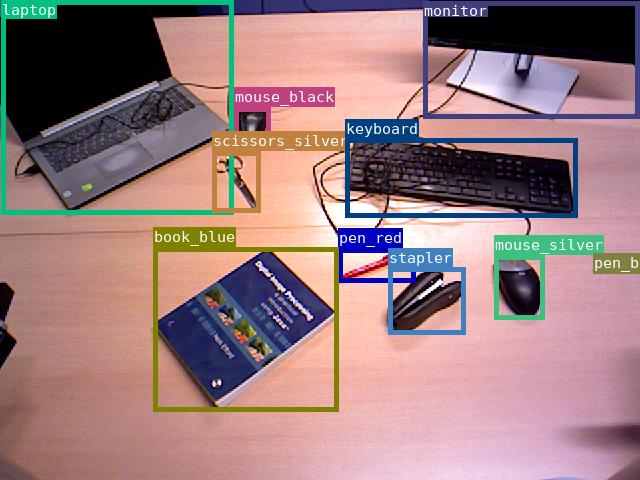book_blue: (153, 247, 338, 411)
keyboard: (345, 138, 577, 217)
laptop: (1, 0, 233, 214)
monitor: (423, 1, 639, 118)
mouse_black: (234, 107, 270, 146)
mouse_silver: (494, 255, 544, 319)
pen_blue: (593, 253, 639, 273)
pen_red: (338, 248, 415, 282)
scissors_silver: (212, 151, 260, 212)
stapler: (388, 267, 465, 334)
